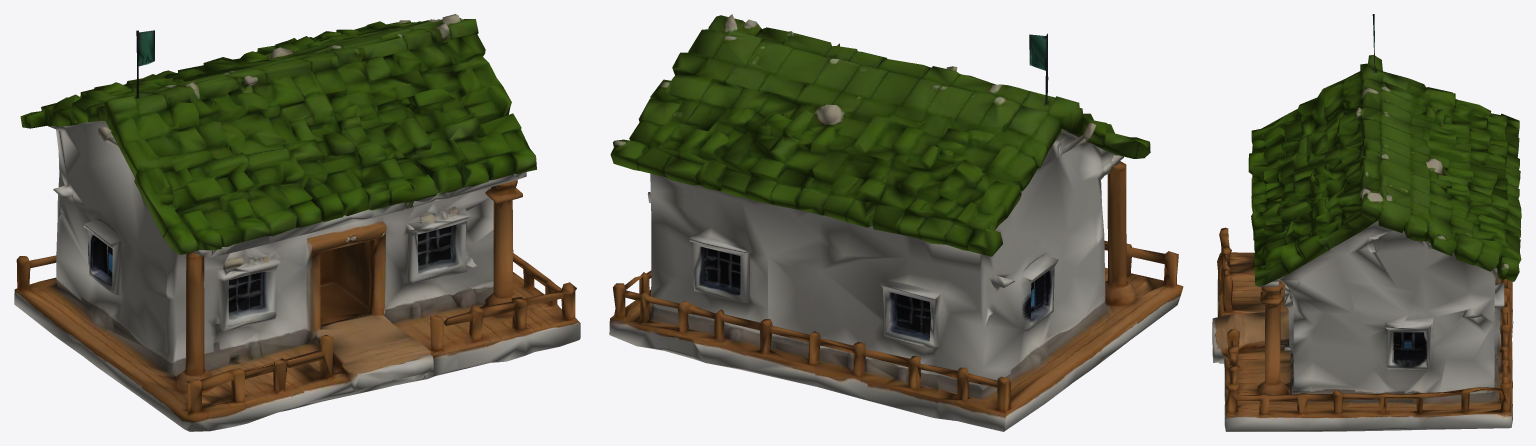
File: clubhouse.glb
3 views of the same model, side by side, from view 1: azimuth 30°, elevation 25°; view 2: azimuth 150°, elevation 25°; view 3: azimuth 270°, elevation 25° (orthographic). The views are drawn at different scales.
Visible parts, largest first — view 1: node_66c4f9e4-230d-4a3a-be2b-76c67b49098c; view 2: node_66c4f9e4-230d-4a3a-be2b-76c67b49098c; view 3: node_66c4f9e4-230d-4a3a-be2b-76c67b49098c.
Part boxes in pixels (<box>): node_66c4f9e4-230d-4a3a-be2b-76c67b49098c: <box>14,14,580,431</box>; node_66c4f9e4-230d-4a3a-be2b-76c67b49098c: <box>609,14,1183,431</box>; node_66c4f9e4-230d-4a3a-be2b-76c67b49098c: <box>1212,14,1521,431</box>.
Size of the model in its own units: 0.9991 by 0.7982 by 0.8064.
1 material, 1 textured.
